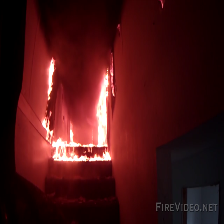fire_h: (97, 69, 108, 148), (53, 148, 112, 162)
fire_l: (47, 57, 55, 101), (52, 138, 81, 149), (42, 118, 54, 142), (110, 57, 115, 95), (82, 142, 94, 148), (69, 128, 74, 142), (160, 1, 164, 8)
